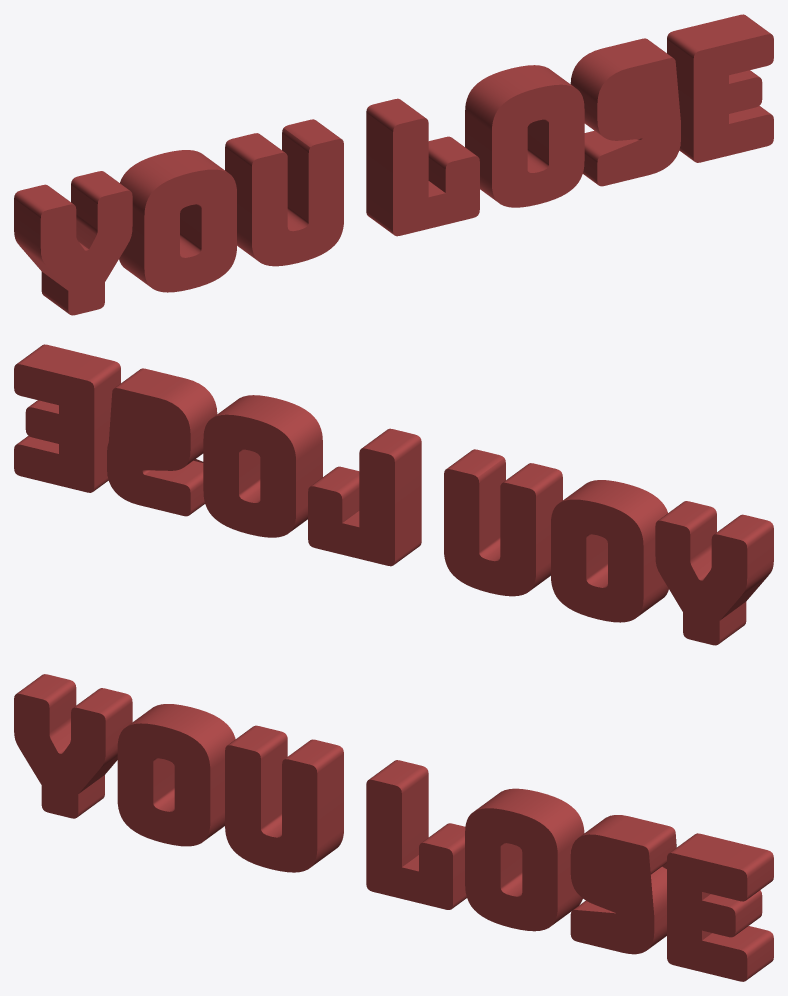
File: youlose.fbx
3 views of the same model, one above another, from view 1: azimuth 30°, elevation 25°; view 2: azimuth 150°, elevation 25°; view 3: azimuth 330°, elevation 25° (orthographic).
Parts seen in each view (by area): view 1: typeMesh1; view 2: typeMesh1; view 3: typeMesh1.
Boxes of the visible parts, x1,y1,x2,y2 form: typeMesh1: (14, 14, 773, 315); typeMesh1: (14, 344, 773, 645); typeMesh1: (14, 674, 773, 981).
Size of the model in its own units: 39.51 by 6 by 2.5.
